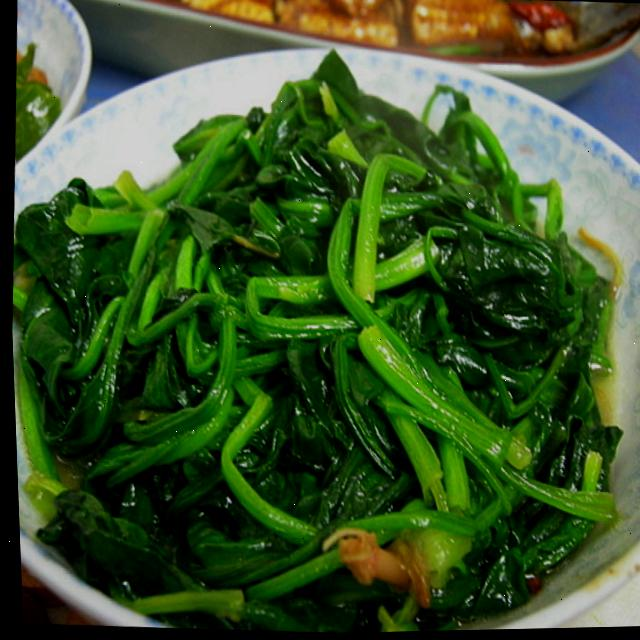蔬菜料理: (0, 4, 640, 640)
